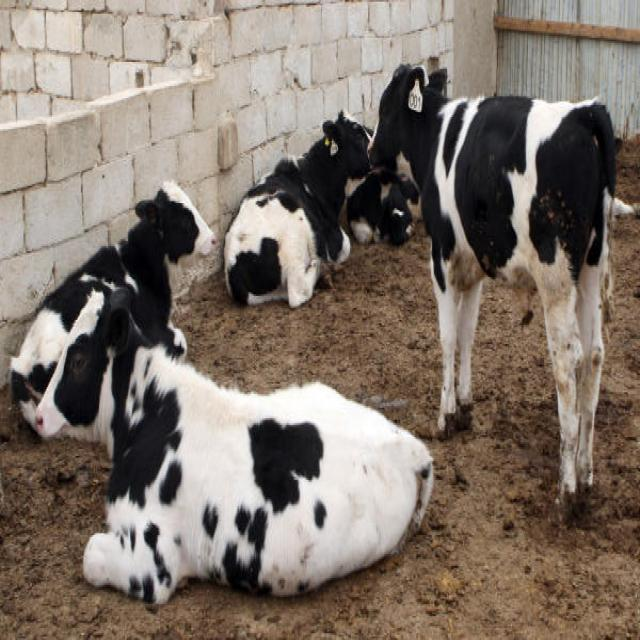cow: (59, 317, 326, 561), (395, 75, 627, 288), (32, 176, 242, 364), (210, 106, 402, 284)
